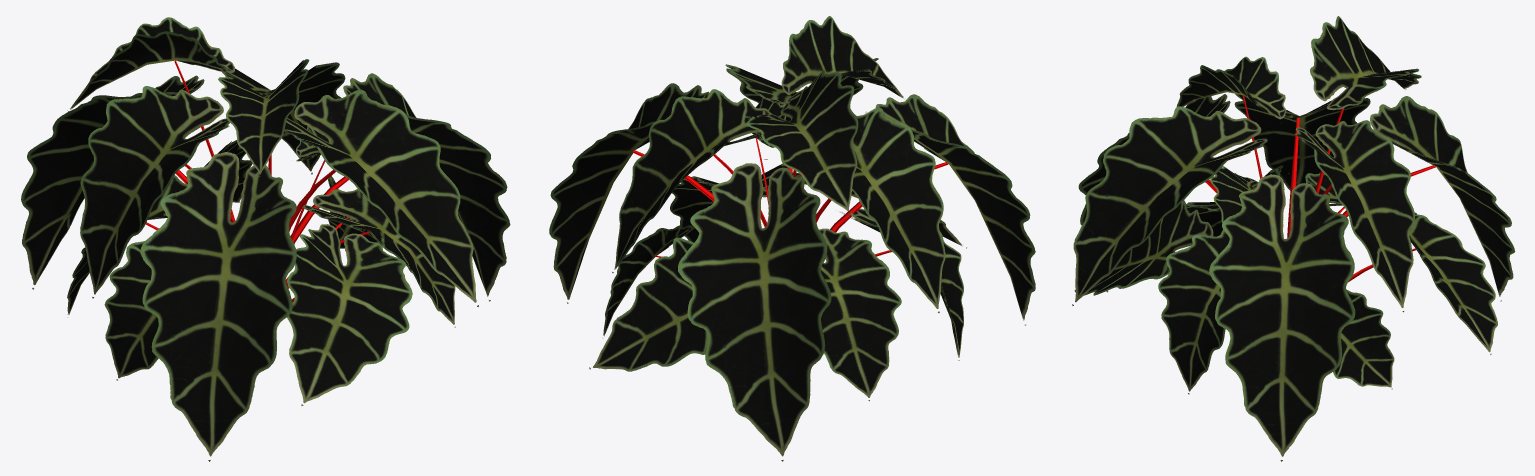
The model's file is DarkPalm_Small_OneMesh_2018.FBX.
The picture shows the model from 3 angles, left to right: view 1: azimuth 30°, elevation 25°; view 2: azimuth 150°, elevation 25°; view 3: azimuth 270°, elevation 25°; orthographic projection. The views are drawn at different scales.
Visible parts, largest first — view 1: DarkPalmSmall_LOD0; view 2: DarkPalmSmall_LOD0; view 3: DarkPalmSmall_LOD0.
Boxes of the visible parts, x1,y1,x2,y2 form: DarkPalmSmall_LOD0: (21, 17, 510, 461); DarkPalmSmall_LOD0: (549, 16, 1035, 461); DarkPalmSmall_LOD0: (1072, 16, 1515, 461).
Size of what is drawn, in the model's own units: 22.94 by 17.42 by 23.12.
